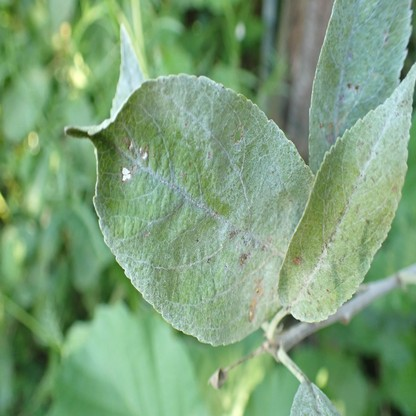powder: (67, 73, 314, 347), (279, 64, 416, 322), (309, 0, 413, 174), (290, 382, 337, 416)
rust: (249, 286, 264, 319), (294, 255, 302, 267), (329, 123, 332, 131)
